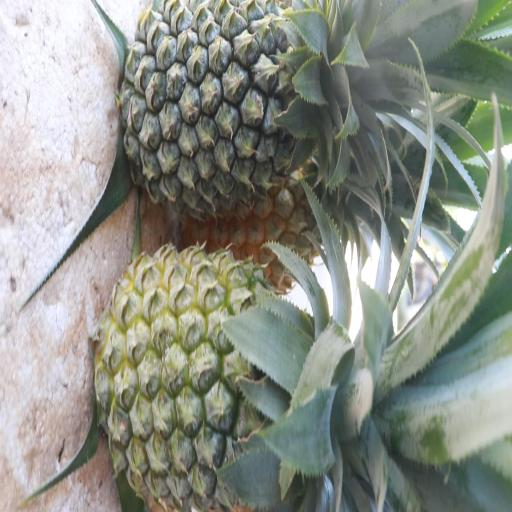------------------------------: (99, 246, 363, 512)
